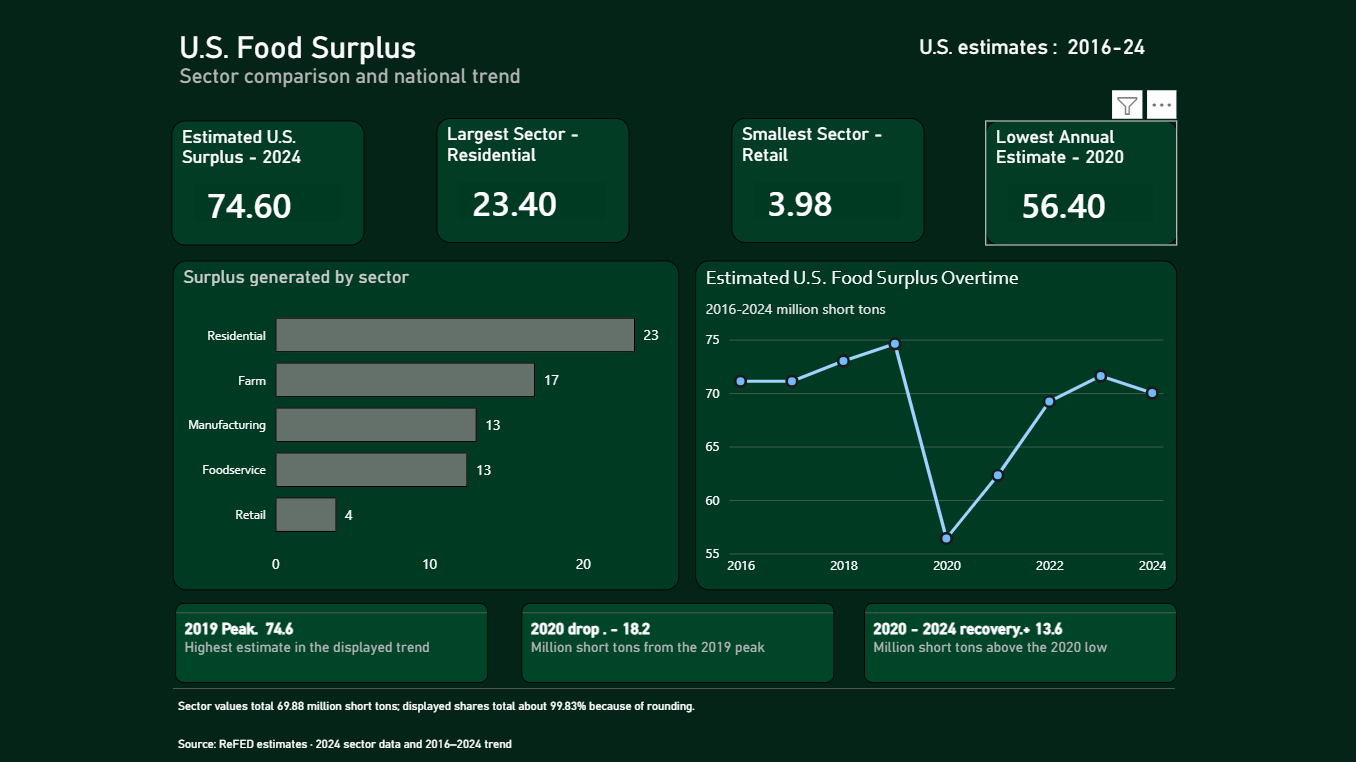

The page's visual inventory and layout, read from the dashboard file:
{"tool":"powerbi","page":{"name":"Page 1","canvas":[1280,720],"ordinal":0},"visuals":[{"type":"textbox","box":[165.1,24.4,615.1,73.3],"z":0},{"type":"clusteredBarChart","title":"Surplus generated by sector","fields":{"Category":["annula_trend & sector_metric comparison.sector"],"Y":["Sum(annula_trend & sector_metric comparison.value)"]},"box":[163.3,246.7,476.7,310],"z":1000},{"type":"lineChart","title":"Estimated U.S. Food Surplus Overtime","fields":{"Category":["us_food_surplus_2016_2024_trend.year"],"Y":["Sum(us_food_surplus_2016_2024_trend.value_million_US_short_tons)"]},"box":[655.8,246.5,453.5,310.5],"z":2000},{"type":"cardVisual","title":"Estimated U.S.          Surplus - 2024","fields":{"Data":["Max(us_food_surplus_2016_2024_trend.value_million_US_short_tons)"]},"box":[162.8,115.1,181.4,117.4],"z":3000},{"type":"textbox","box":[861.6,30.2,247.7,61.6],"z":4000},{"type":"cardVisual","title":"Largest Sector - Residential","fields":{"Data":["Max(annula_trend & sector_metric comparison.value)"]},"box":[411.6,112.8,181.4,117.4],"z":5000},{"type":"cardVisual","title":"Lowest Annual Estimate - 2020","fields":{"Data":["Min(us_food_surplus_2016_2024_trend.value_million_US_short_tons)"]},"box":[927.9,115.1,181.4,117.4],"z":6000},{"type":"cardVisual","title":"Smallest Sector - Retail","fields":{"Data":["Min(annula_trend & sector_metric comparison.value)"]},"box":[689.5,112.8,181.4,117.4],"z":7000},{"type":"textbox","box":[165.6,568.9,294.4,75.6],"z":8000},{"type":"textbox","box":[492.2,568.9,294.4,75.6],"z":9000},{"type":"textbox","box":[814.4,568.9,294.4,75.6],"z":10000},{"type":"textbox","box":[163.3,644.4,943.3,75.6],"z":11000}]}

Visuals, with their boxes in screenshot pixels (x1, y1, x2, y2), scaled from the page's 1280x720 canvas onto the 1356x762 screenshot:
textbox: locate(175, 26, 827, 103)
"Surplus generated by sector" clusteredBarChart: locate(173, 261, 678, 589)
"Estimated U.S. Food Surplus Overtime" lineChart: locate(695, 261, 1175, 589)
"Estimated U.S.          Surplus - 2024" cardVisual: locate(172, 122, 365, 246)
textbox: locate(913, 32, 1175, 97)
"Largest Sector - Residential" cardVisual: locate(436, 119, 628, 244)
"Lowest Annual Estimate - 2020" cardVisual: locate(983, 122, 1175, 246)
"Smallest Sector - Retail" cardVisual: locate(730, 119, 923, 244)
textbox: locate(175, 602, 487, 682)
textbox: locate(521, 602, 833, 682)
textbox: locate(863, 602, 1175, 682)
textbox: locate(173, 682, 1172, 761)
